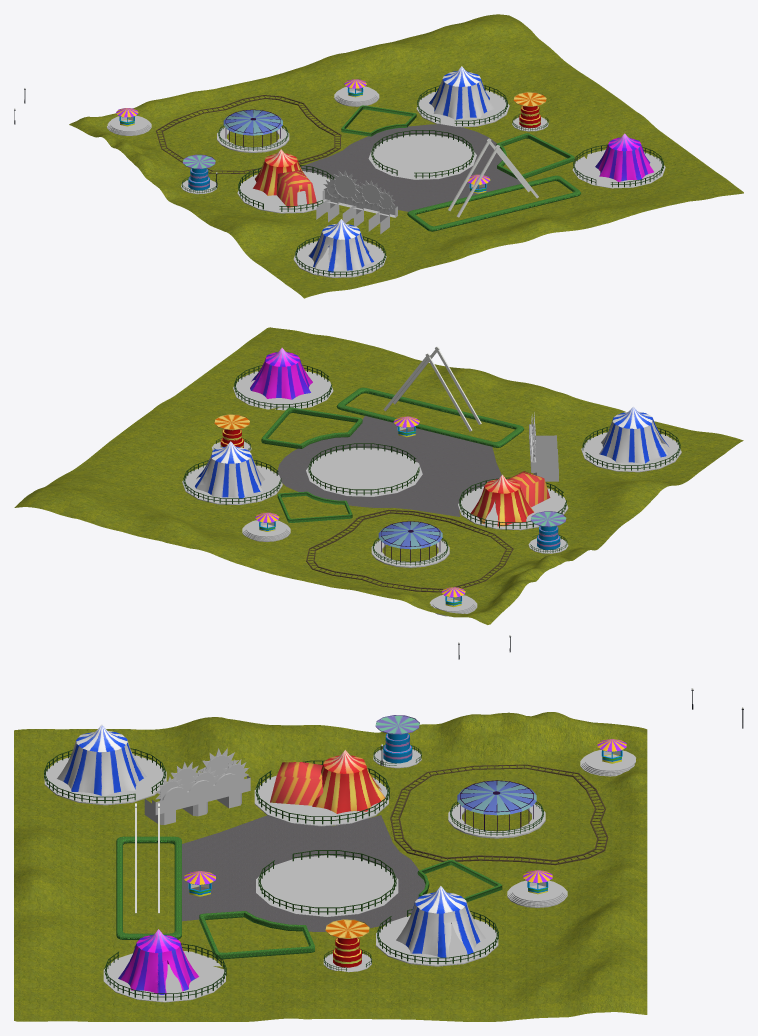
Rendered from StaticObjects.FBX.
3 renders of one model, top to bottom at view 1: azimuth 30°, elevation 25°; view 2: azimuth 150°, elevation 25°; view 3: azimuth 270°, elevation 25°, orthographic. The views are drawn at different scales.
Parts seen in each view (by area): view 1: Cylinder007; view 2: Cylinder007; view 3: Cylinder007.
Part boxes in pixels (box(x1,y1,x2,y2)): Cylinder007: box(14, 14, 743, 298); Cylinder007: box(14, 327, 743, 659); Cylinder007: box(14, 688, 743, 1021).
Size of the model in its own units: 11946 by 1596 by 11784.
